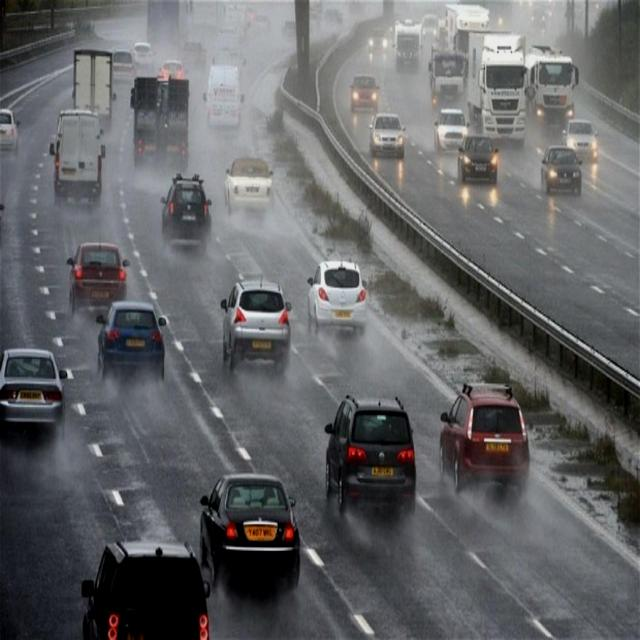Car: (80, 536, 211, 640), (199, 473, 303, 588), (323, 394, 415, 516), (440, 377, 529, 498), (219, 280, 292, 370), (0, 347, 68, 437), (96, 303, 168, 386), (67, 240, 130, 317), (308, 261, 369, 337), (160, 175, 213, 250), (224, 156, 276, 213), (458, 135, 500, 181), (541, 147, 582, 193), (432, 106, 470, 152), (368, 113, 407, 156), (561, 119, 600, 160), (348, 71, 382, 112), (110, 47, 138, 87), (179, 36, 206, 69), (0, 109, 20, 150), (158, 60, 188, 80), (132, 43, 156, 66), (365, 28, 389, 51)
Truck: (467, 27, 534, 151), (130, 77, 193, 170), (525, 42, 580, 130), (71, 44, 119, 130), (146, 0, 198, 49), (428, 44, 468, 107), (444, 4, 491, 49), (393, 16, 425, 76)
Van: (48, 107, 106, 207), (201, 63, 247, 132)
